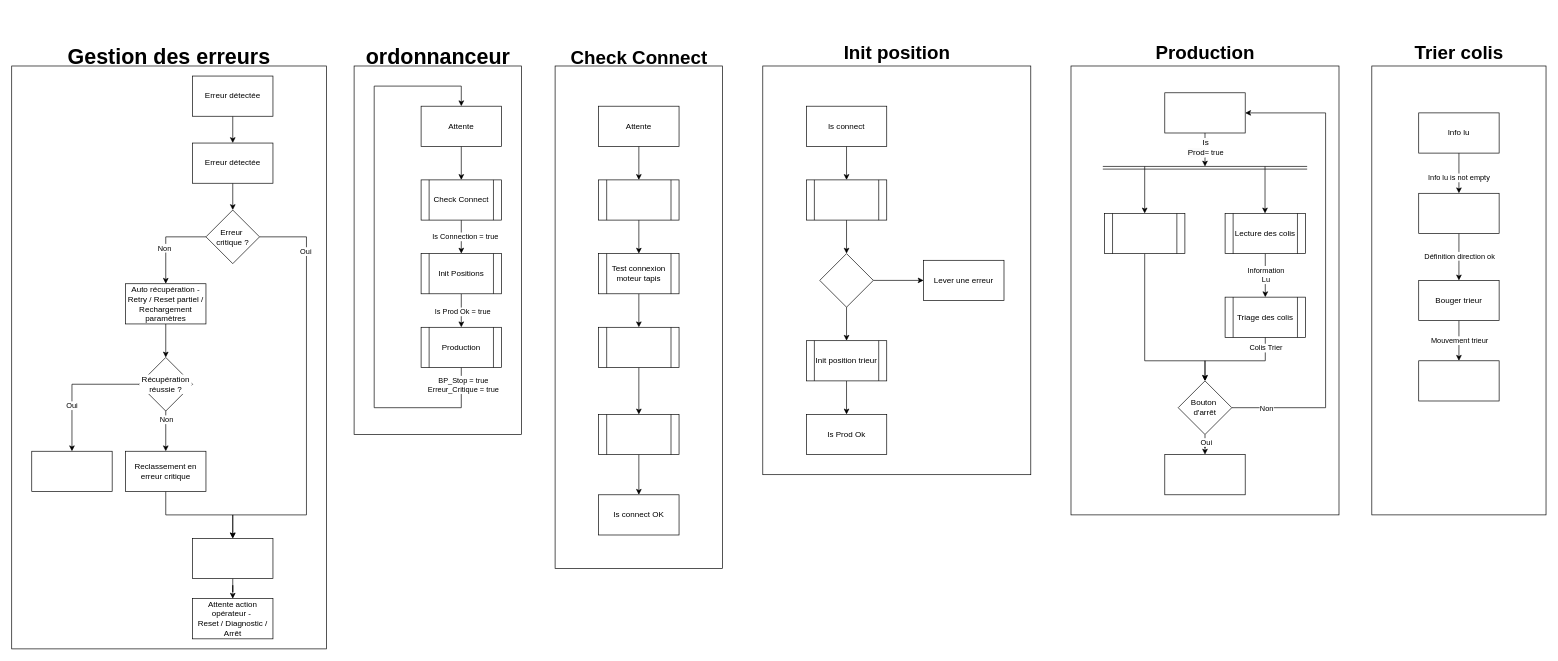
Some shapes in this 1558 by 661 pixel diagram are drawn without their labels. Here are the shapes that lost their labels. From the top down, the centre of each, then its label:
At (x=1204, y=112): "Is Prod".
At (x=638, y=199): "Test connexion Dolibarr".
At (x=846, y=199): "Charger Param moteur Tapis".
At (x=1458, y=213): "Définir direction".
At (x=1144, y=233): "Faire rouler le tapis".
At (x=846, y=280): "données param chargée ok ?".
At (x=638, y=347): "Test connexion trieur".
At (x=1458, y=380): "Colis trier = true".
At (x=638, y=434): "Test connexion capteur RFID".
At (x=71, y=471): "Retour au module d'origine".
At (x=1204, y=474): "Is Prod = false".
At (x=232, y=558): "Mise en sécurité - Stop tapis / stop trieur / Log erreur".
